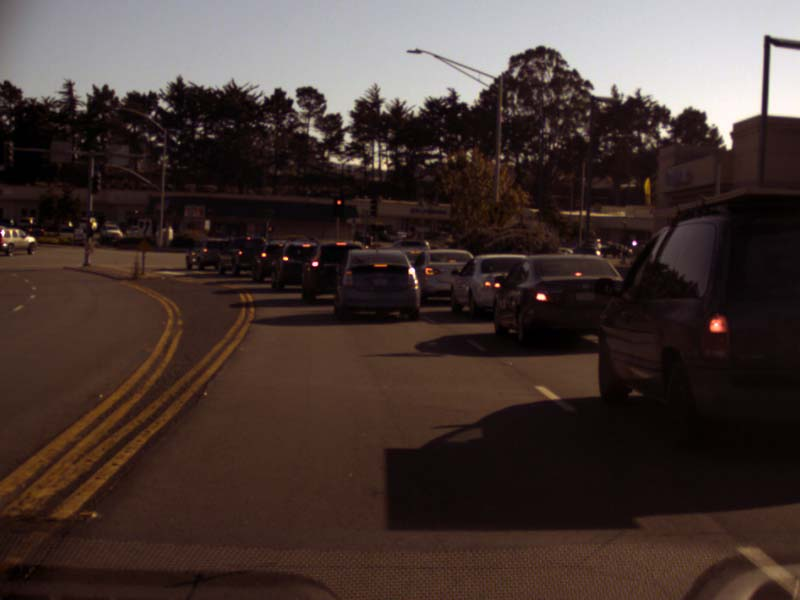Red: (333, 195, 343, 216)
